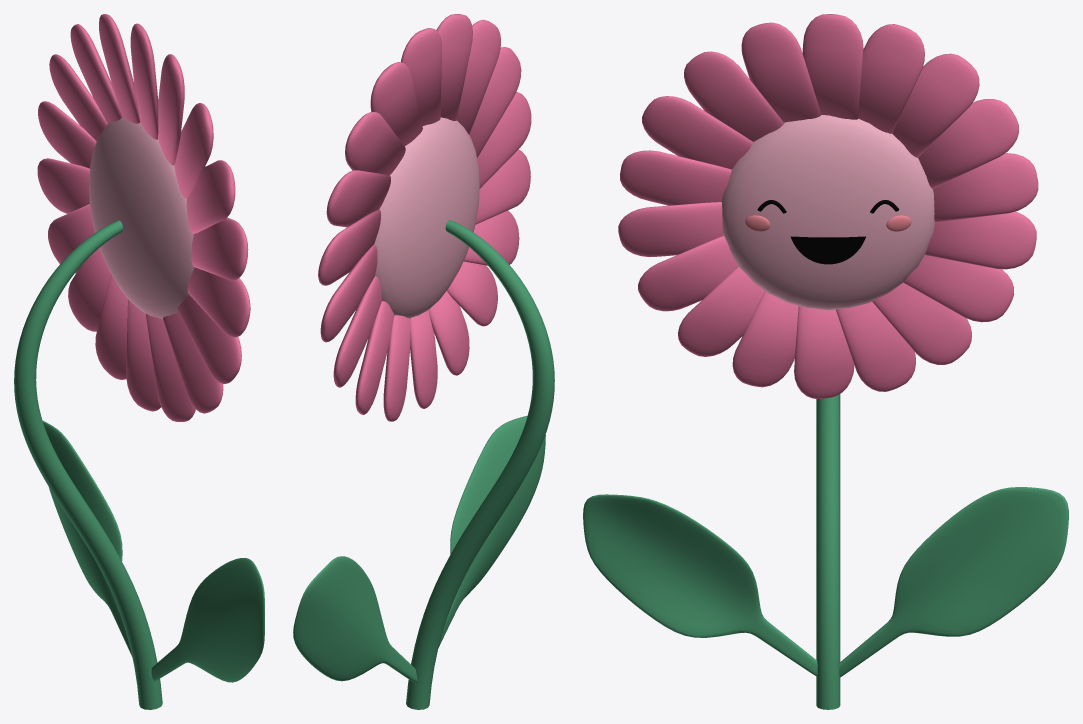
Rendered from vhappy.glb.
3 renders of one model, left to right at view 1: azimuth 30°, elevation 25°; view 2: azimuth 150°, elevation 25°; view 3: azimuth 270°, elevation 25°, orthographic.
Visible parts, largest first — view 1: Petals, Face, Stem, Left Leaf, Right Leaf; view 2: Petals, Face, Stem, Right Leaf, Left Leaf; view 3: Petals, Face, Right Leaf, Left Leaf, Stem, Mouth.
Boxes of the visible parts, <box> form: Petals: <box>37,14,250,421</box>; Face: <box>89,117,194,319</box>; Stem: <box>14,220,162,709</box>; Left Leaf: <box>151,558,264,682</box>; Right Leaf: <box>43,421,132,656</box>; Petals: <box>318,14,531,421</box>; Face: <box>374,117,479,318</box>; Stem: <box>406,220,554,709</box>; Right Leaf: <box>293,556,417,683</box>; Left Leaf: <box>438,415,545,647</box>; Petals: <box>618,14,1038,398</box>; Face: <box>721,115,934,310</box>; Right Leaf: <box>838,487,1068,677</box>; Left Leaf: <box>583,494,817,676</box>; Stem: <box>816,394,840,709</box>; Mouth: <box>790,236,865,264</box>.
Size of the model in its own units: 1.79 by 6.95 by 4.45.
